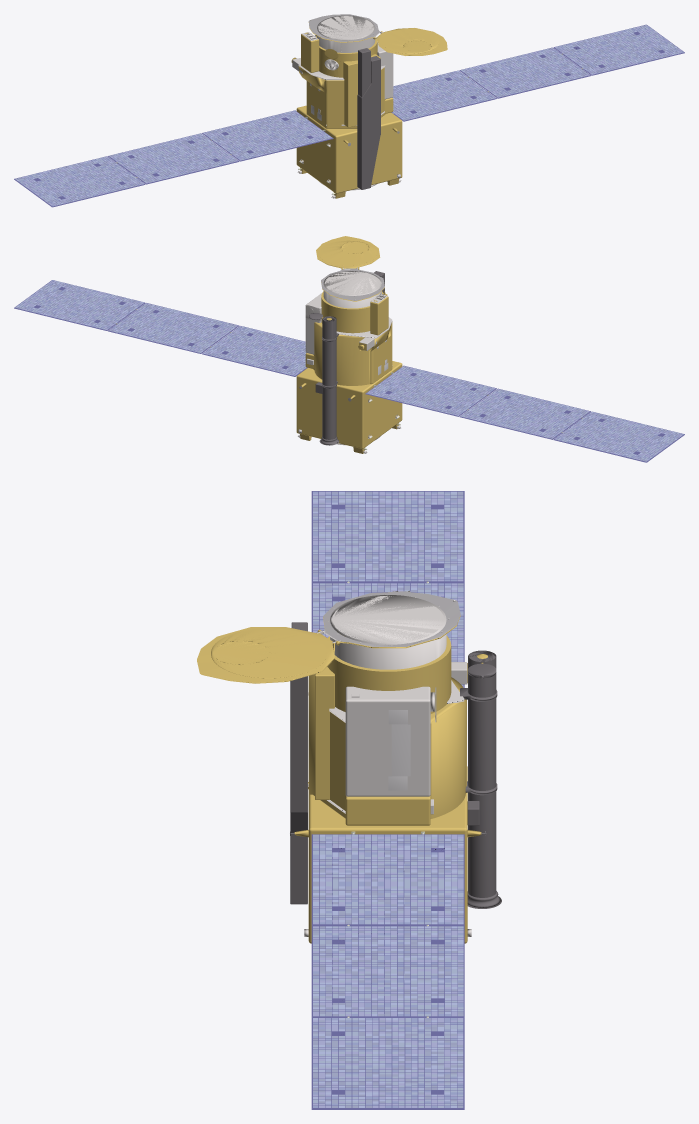
Rendered from hinode-solar-b.glb.
The picture shows the model from 3 angles, top to bottom: view 1: azimuth 30°, elevation 25°; view 2: azimuth 150°, elevation 25°; view 3: azimuth 270°, elevation 25°; orthographic projection. The views are drawn at different scales.
Parts seen in each view (by area): view 1: Fake; view 2: Fake; view 3: Fake.
Part boxes in pixels (bbox=[...]): Fake: bbox=[14, 14, 684, 207]; Fake: bbox=[14, 236, 684, 462]; Fake: bbox=[197, 491, 501, 1109].
Bounding box in the file's own units: 230 × 52.5 × 47.96.
Materials: 1 (1 with a texture image).
